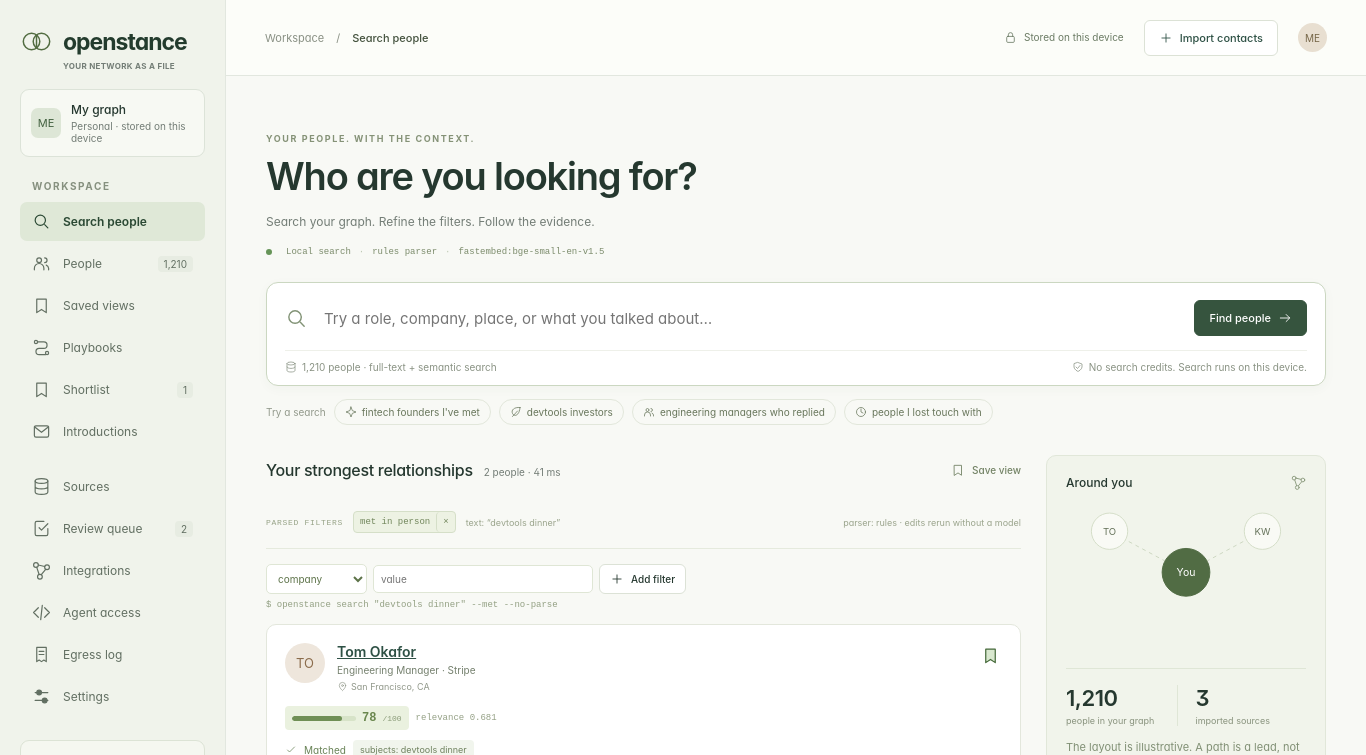
Search page (P4-UI-02) › sends the typed text to the parser and renders result cards with score bar and evidence
In the search field named "search your network": (751, 318) x1=322 y1=308 x2=1180 y2=329, type "devtools dinner"
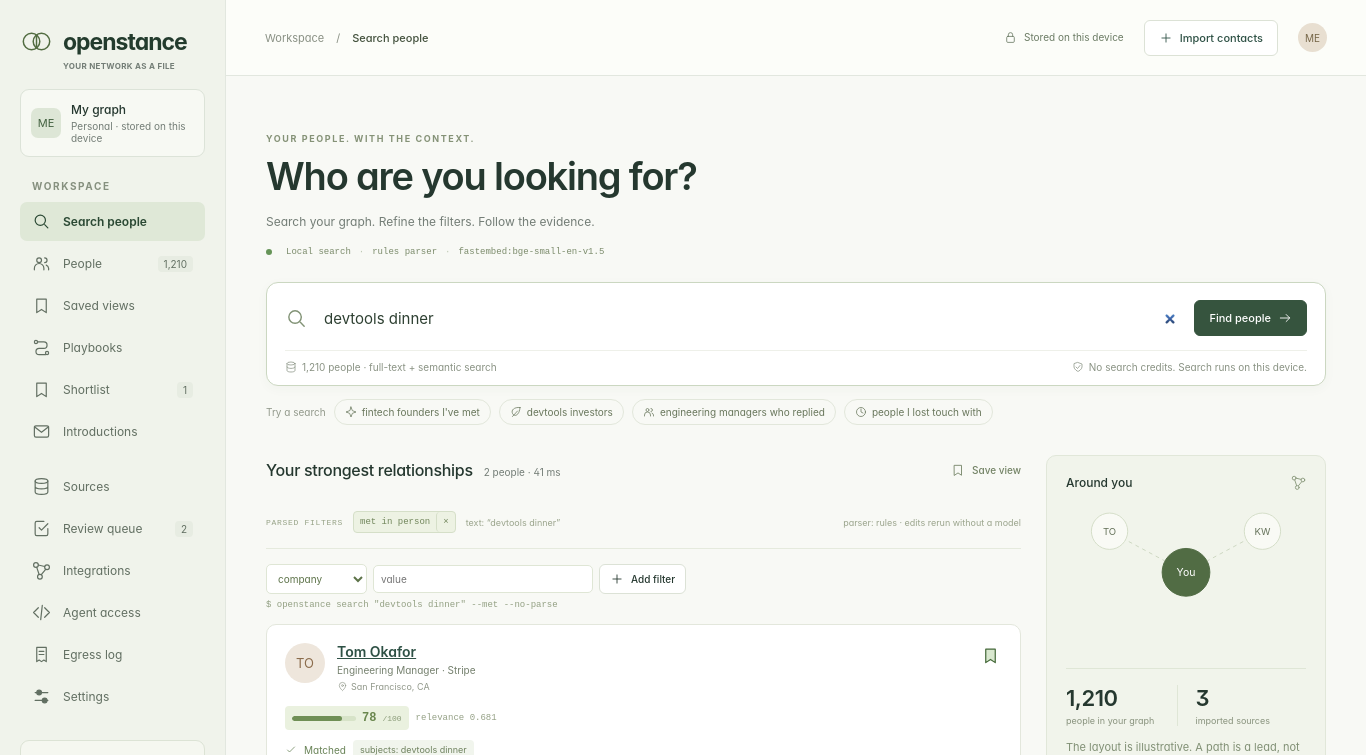
Click the button "Find people": click(1251, 318) x1=1194 y1=300 x2=1307 y2=336
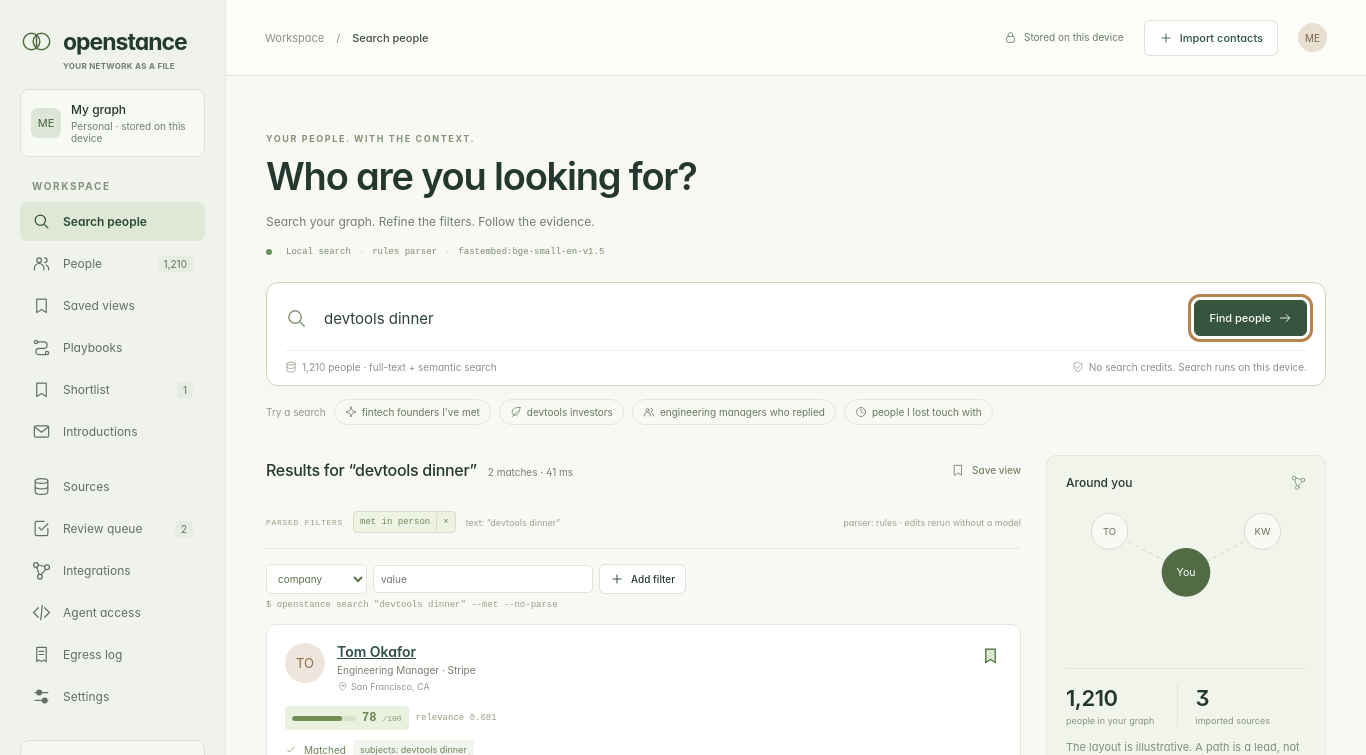
Expected: the text "Engineering Manager · Stripe" is shown, x1=337 y1=664 x2=476 y2=676
Result: the text "2 matches · 41 ms" is shown at x1=488 y1=466 x2=573 y2=478
